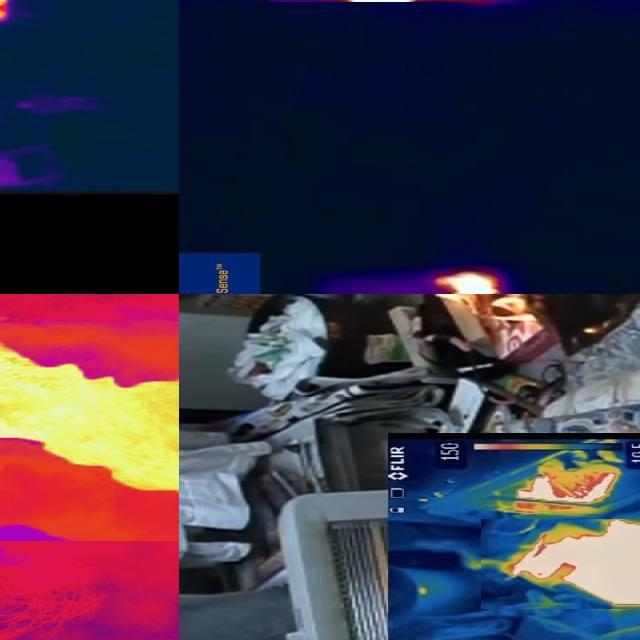fire: (1, 346, 180, 500), (482, 519, 640, 609), (509, 456, 623, 518), (410, 268, 502, 295)
